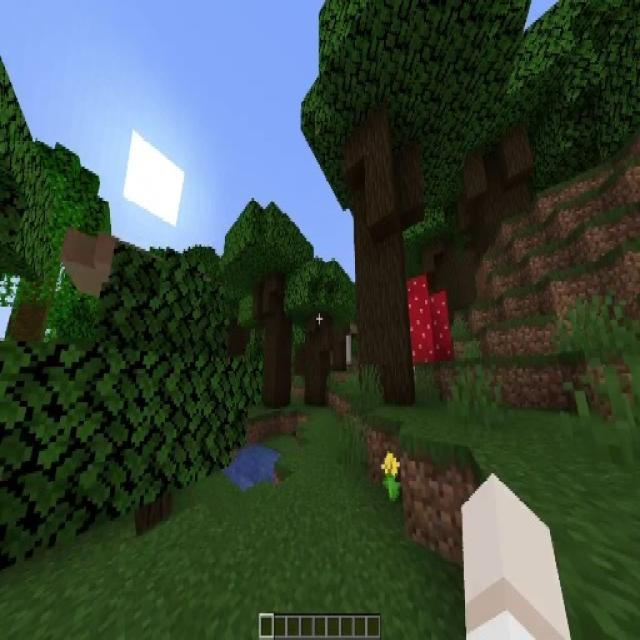dark_oak: (318, 0, 440, 406), (238, 205, 300, 409), (290, 258, 342, 401)
dark_oak_log: (349, 131, 412, 400), (473, 125, 531, 260), (259, 284, 294, 408), (426, 241, 475, 310), (305, 322, 330, 403)
jungle: (0, 141, 111, 378)
jungle_log: (9, 267, 56, 350)
